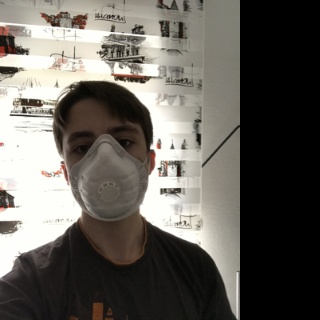with_mask: (64, 114, 149, 221)
